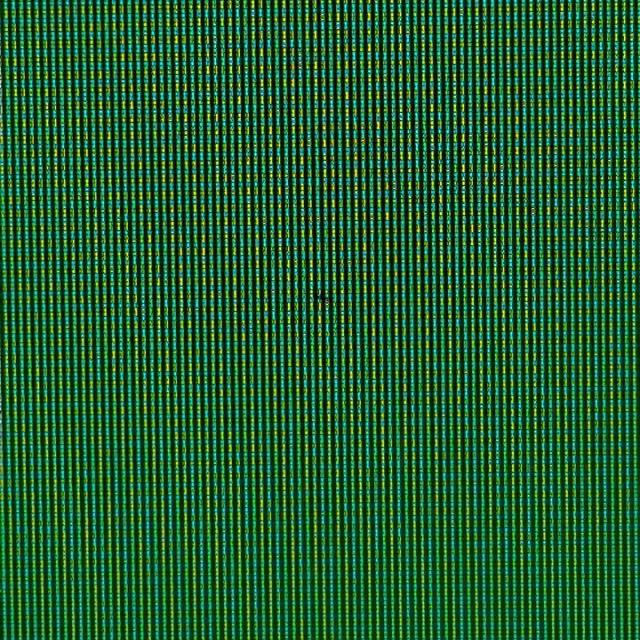Dead pixel: (321, 296, 334, 304)
